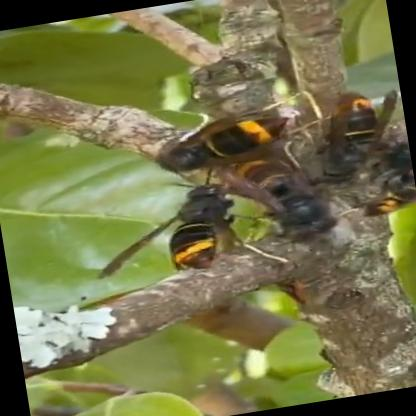bee: (104, 38, 416, 295)
